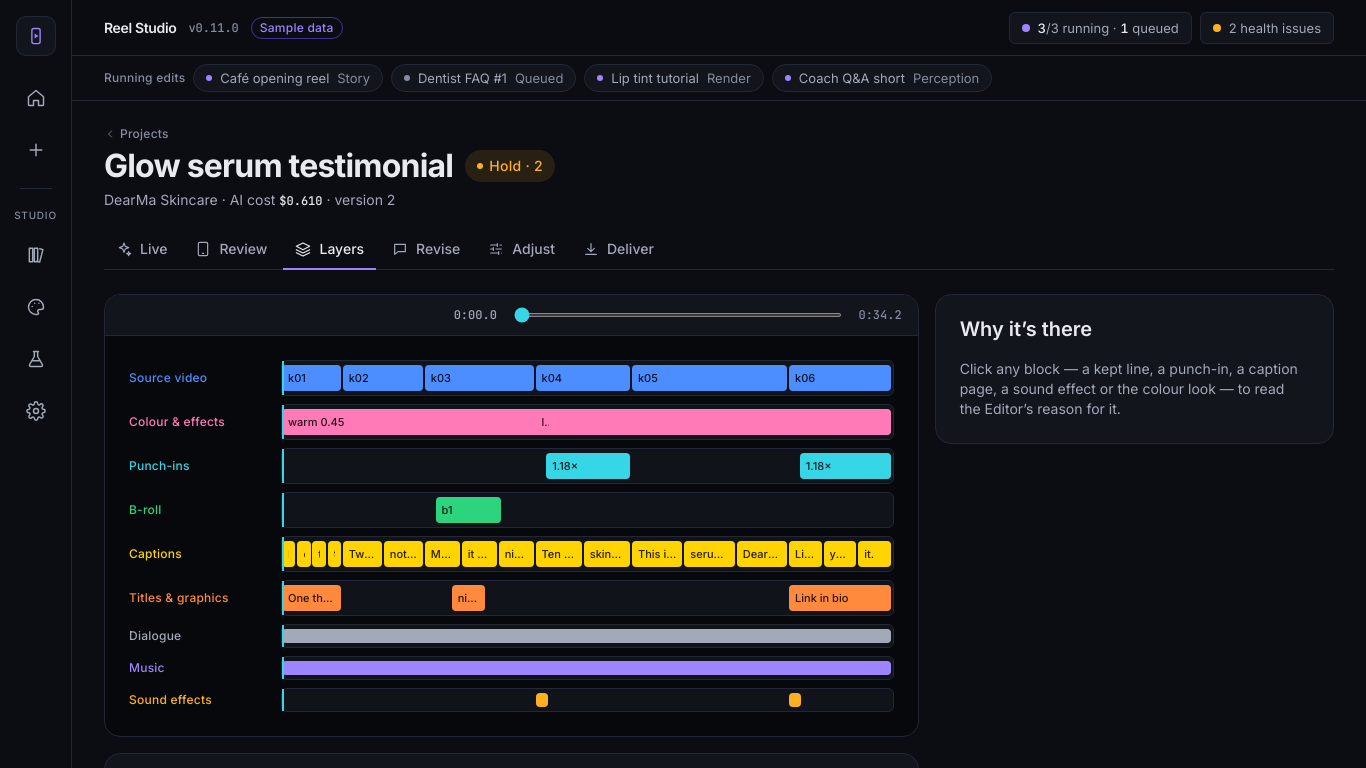
Test case: screens › layers fall back to flat tracks and explain a punch-in (AC-8/9)
Click the button named "Punch-ins: 1.18×" at (588, 466), box [546, 453, 630, 479]
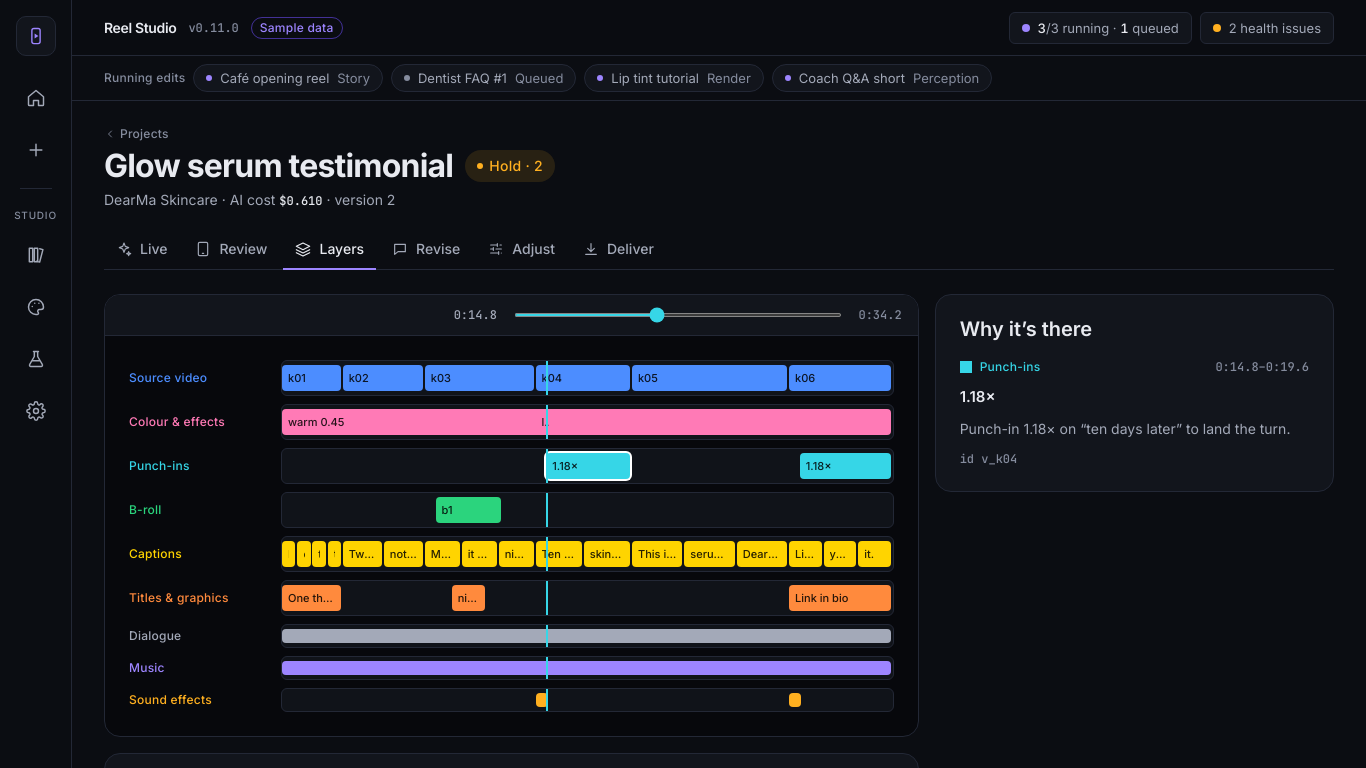
Expected: the text "Punch-in 1.18× on “ten days later” to land the turn." is shown, [960, 419, 1309, 439]
